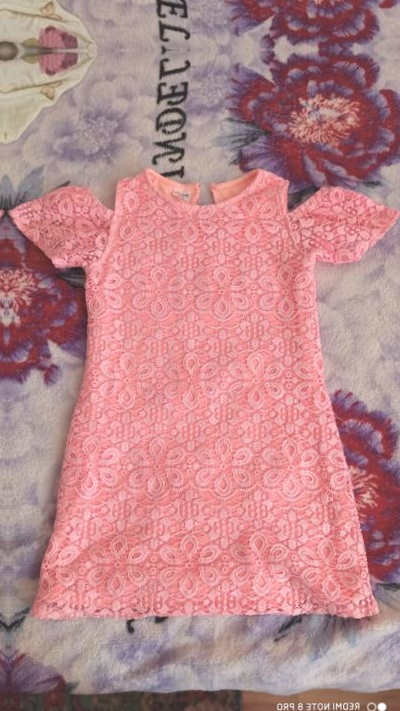Dress: (6, 136, 400, 644), (0, 138, 7, 646), (400, 133, 400, 642)
